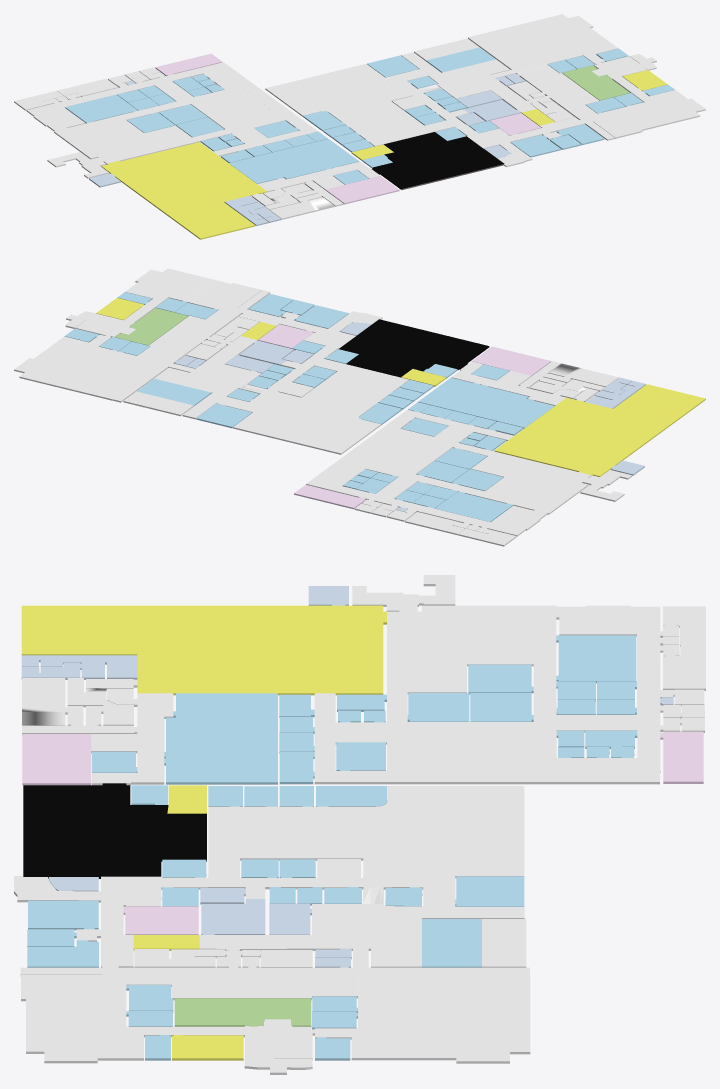
Rendered from Floors.fbx.
The picture shows the model from 3 angles, top to bottom: view 1: azimuth 30°, elevation 25°; view 2: azimuth 150°, elevation 25°; view 3: azimuth 270°, elevation 25°; orthographic projection. The views are drawn at different scales.
Parts seen in each view (by area): view 1: polySurface158, polySurface155, polySurface75, polySurface15, polySurface93, A_C01042, polySurface29, polySurface129, Kitchen, Bathroom_Canteen, polySurface40, PoolRoom (+22 smaller); view 2: polySurface158, polySurface155, polySurface75, polySurface15, polySurface93, A_C01042, polySurface29, polySurface129, Kitchen, Bathroom_Canteen, polySurface40, polySurface139 (+20 smaller); view 3: polySurface158, polySurface155, polySurface75, polySurface15, polySurface93, A_C01042, polySurface29, Kitchen, polySurface129, Bathroom_Canteen, polySurface139, polySurface40 (+35 smaller).
Boxes of the visible parts, left/top/right/bottom form: polySurface158: left=265, top=38, right=536, bottom=146; polySurface155: left=468, top=14, right=705, bottom=140; polySurface75: left=26, top=69, right=285, bottom=178; polySurface15: left=101, top=142, right=267, bottom=216; polySurface93: left=372, top=132, right=503, bottom=189; A_C01042: left=229, top=139, right=359, bottom=183; polySurface29: left=197, top=62, right=318, bottom=156; polySurface129: left=455, top=117, right=583, bottom=167; Kitchen: left=168, top=202, right=255, bottom=239; Bathroom_Canteen: left=265, top=181, right=343, bottom=219; polySurface40: left=65, top=94, right=137, bottom=123; PoolRoom: left=325, top=176, right=399, bottom=204; polySurface158: left=123, top=336, right=408, bottom=454; polySurface155: left=14, top=268, right=270, bottom=402; polySurface75: left=335, top=428, right=632, bottom=536; polySurface15: left=494, top=397, right=671, bottom=476; polySurface93: left=339, top=319, right=489, bottom=377; A_C01042: left=418, top=377, right=554, bottom=428; polySurface29: left=306, top=409, right=513, bottom=491; polySurface129: left=239, top=309, right=382, bottom=358; Kitchen: left=613, top=384, right=705, bottom=424; Bathroom_Canteen: left=519, top=361, right=618, bottom=393; polySurface40: left=435, top=491, right=513, bottom=522; polySurface139: left=115, top=308, right=188, bottom=345; polySurface158: left=199, top=786, right=526, bottom=967; polySurface155: left=20, top=949, right=530, bottom=1074; polySurface75: left=352, top=575, right=660, bottom=770; polySurface15: left=137, top=605, right=386, bottom=695; polySurface93: left=23, top=783, right=206, bottom=878; A_C01042: left=164, top=693, right=277, bottom=784; polySurface29: left=314, top=693, right=660, bottom=784; Kitchen: left=21, top=605, right=137, bottom=655; polySurface129: left=14, top=876, right=206, bottom=966; Bathroom_Canteen: left=22, top=678, right=137, bottom=734; polySurface139: left=174, top=998, right=311, bottom=1027; polySurface40: left=556, top=635, right=636, bottom=683.
Size of the model in its own units: 10.35 by 0.0241 by 6.09.
